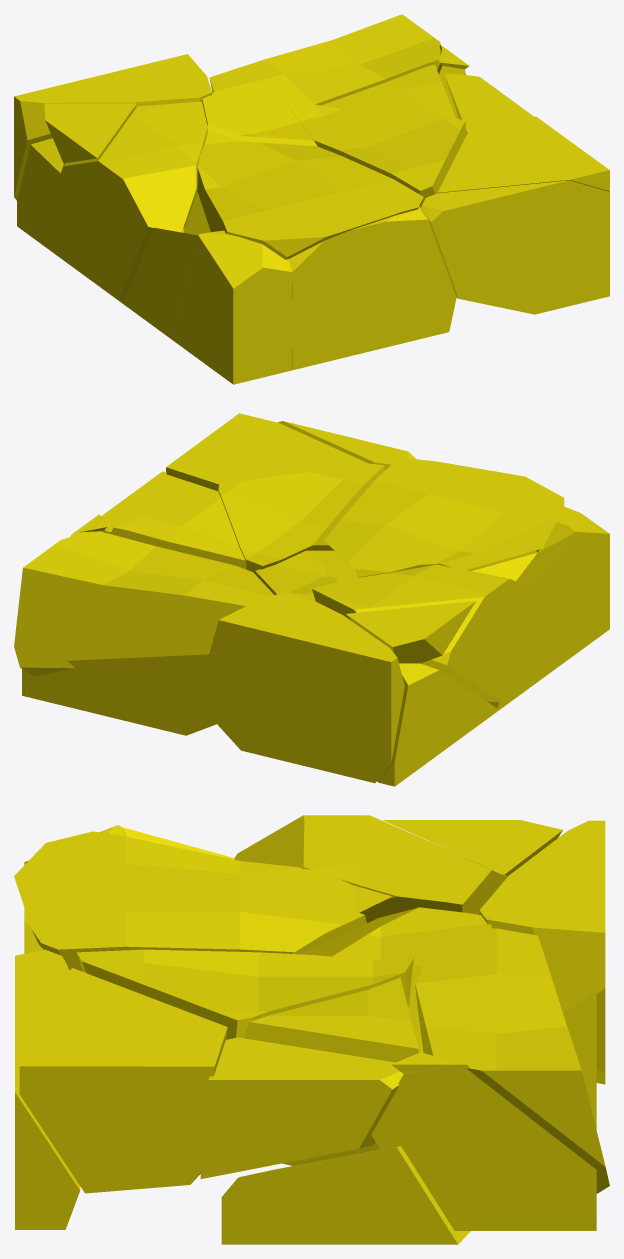
File: BreakedFloor.fbx
3 renders of one model, top to bottom at view 1: azimuth 30°, elevation 25°; view 2: azimuth 150°, elevation 25°; view 3: azimuth 270°, elevation 25°, orthographic. The views are drawn at different scales.
Visible parts, largest first — view 1: Cube_6x6x6.004_cell.026, Cube_6x6x6.004_cell.006, Cube_6x6x6.004_cell.018, Cube_6x6x6.004_cell.008, Cube_6x6x6.004_cell.005, Cube_6x6x6.004_cell.009, Cube_6x6x6.004_cell.024, Cube_6x6x6.004_cell.029, Cube_6x6x6.004_cell.025, Cube_6x6x6.004_cell.002, Cube_6x6x6.004_cell.001, Cube_6x6x6.004_cell.020 (+4 smaller); view 2: Cube_6x6x6.004_cell.025, Cube_6x6x6.004_cell.009, Cube_6x6x6.004_cell.018, Cube_6x6x6.004_cell.008, Cube_6x6x6.004_cell.015, Cube_6x6x6.004_cell.024, Cube_6x6x6.004_cell.029, Cube_6x6x6.004_cell.002, Cube_6x6x6.004_cell.005, Cube_6x6x6.004_cell.001, Cube_6x6x6.004_cell.003, Cube_6x6x6.004_cell.013 (+4 smaller); view 3: Cube_6x6x6.004_cell.029, Cube_6x6x6.004_cell.018, Cube_6x6x6.004_cell.004, Cube_6x6x6.004_cell.009, Cube_6x6x6.004_cell.014, Cube_6x6x6.004_cell.012, Cube_6x6x6.004_cell.024, Cube_6x6x6.004_cell.008, Cube_6x6x6.004_cell.025, Cube_6x6x6.004_cell.003, Cube_6x6x6.004_cell.026, Cube_6x6x6.004_cell.020 (+5 smaller).
Boxes of the visible parts, bbox=[...] form: Cube_6x6x6.004_cell.026: bbox=[420, 180, 609, 314]; Cube_6x6x6.004_cell.006: bbox=[288, 206, 456, 369]; Cube_6x6x6.004_cell.018: bbox=[197, 129, 423, 259]; Cube_6x6x6.004_cell.008: bbox=[60, 101, 207, 300]; Cube_6x6x6.004_cell.005: bbox=[173, 230, 292, 384]; Cube_6x6x6.004_cell.009: bbox=[209, 14, 440, 105]; Cube_6x6x6.004_cell.024: bbox=[288, 103, 466, 207]; Cube_6x6x6.004_cell.029: bbox=[437, 116, 609, 193]; Cube_6x6x6.004_cell.025: bbox=[14, 54, 212, 200]; Cube_6x6x6.004_cell.002: bbox=[17, 138, 184, 301]; Cube_6x6x6.004_cell.001: bbox=[120, 227, 196, 339]; Cube_6x6x6.004_cell.020: bbox=[184, 92, 316, 227]; Cube_6x6x6.004_cell.025: bbox=[209, 593, 404, 783]; Cube_6x6x6.004_cell.009: bbox=[14, 532, 274, 676]; Cube_6x6x6.004_cell.018: bbox=[324, 459, 564, 577]; Cube_6x6x6.004_cell.008: bbox=[312, 564, 534, 703]; Cube_6x6x6.004_cell.015: bbox=[25, 654, 216, 735]; Cube_6x6x6.004_cell.024: bbox=[218, 463, 384, 572]; Cube_6x6x6.004_cell.029: bbox=[166, 413, 368, 491]; Cube_6x6x6.004_cell.002: bbox=[377, 663, 497, 786]; Cube_6x6x6.004_cell.005: bbox=[536, 507, 609, 672]; Cube_6x6x6.004_cell.001: bbox=[486, 534, 573, 710]; Cube_6x6x6.004_cell.003: bbox=[111, 491, 245, 569]; Cube_6x6x6.004_cell.013: bbox=[346, 601, 475, 663]; Cube_6x6x6.004_cell.029: bbox=[19, 968, 227, 1193]; Cube_6x6x6.004_cell.018: bbox=[14, 831, 391, 971]; Cube_6x6x6.004_cell.004: bbox=[371, 1062, 596, 1230]; Cube_6x6x6.004_cell.009: bbox=[415, 928, 609, 1193]; Cube_6x6x6.004_cell.014: bbox=[200, 1037, 403, 1179]; Cube_6x6x6.004_cell.012: bbox=[221, 1146, 470, 1244]; Cube_6x6x6.004_cell.024: bbox=[77, 949, 413, 1039]; Cube_6x6x6.004_cell.008: bbox=[234, 815, 507, 922]; Cube_6x6x6.004_cell.025: bbox=[479, 820, 605, 1084]; Cube_6x6x6.004_cell.003: bbox=[244, 977, 418, 1165]; Cube_6x6x6.004_cell.026: bbox=[15, 949, 80, 1229]; Cube_6x6x6.004_cell.020: bbox=[301, 907, 491, 1052].
Bounding box in the file's own units: 616 × 210 × 625.
